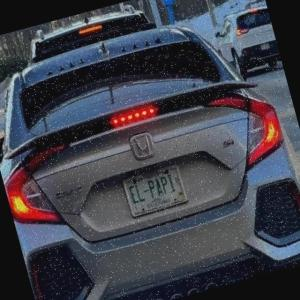Plate: (121, 163, 188, 218)
